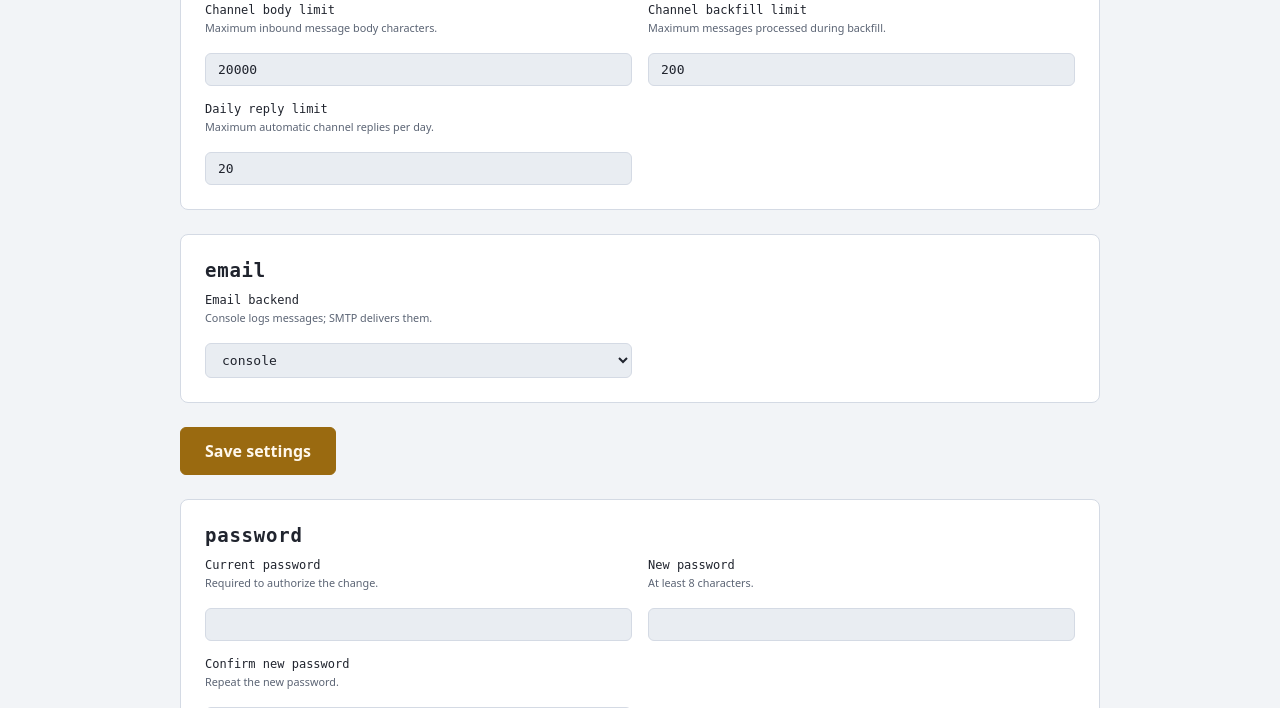
Scenario: smtp fields hidden for console backend and shown for smtp
The width and height of the screenshot is (1280, 708).
(page scrolled)
Expected: the field labelled "SMTP host" is not shown
Select "smtp" in the dropdown labelled "Email backend Console logs messages; SMTP delivers them." at (418, 360), box [205,343,632,378]
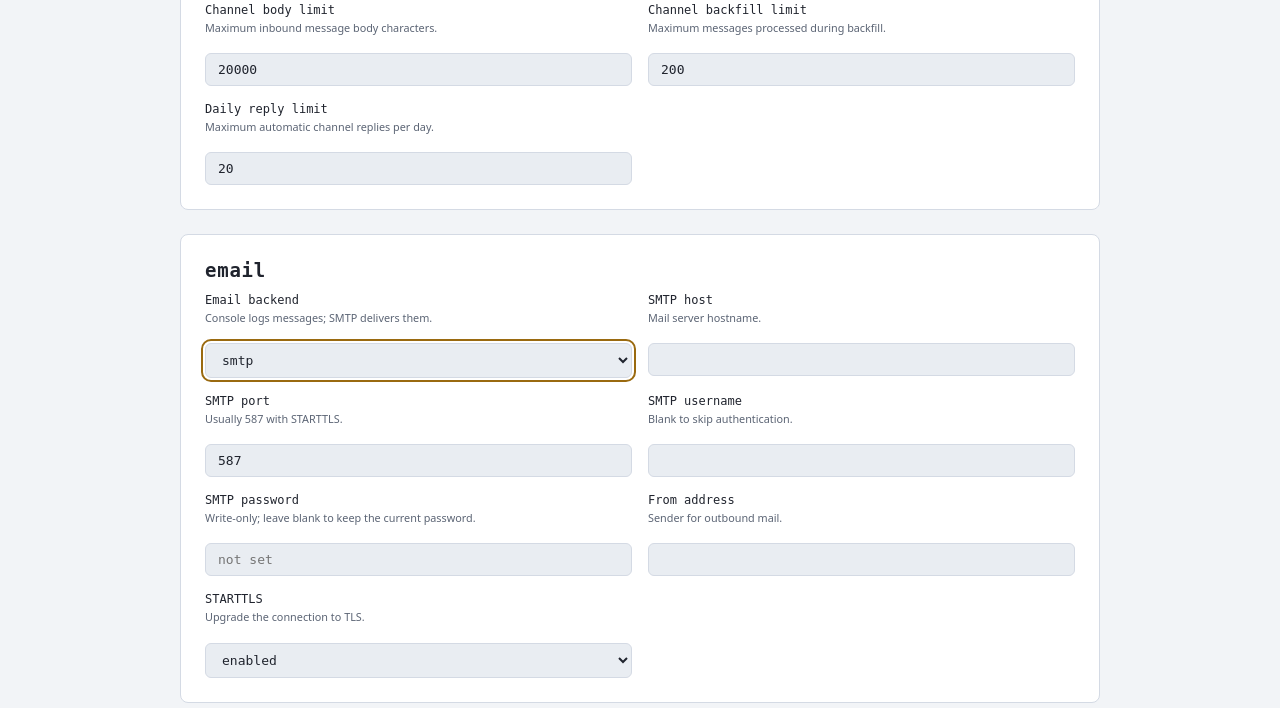
Now the field labelled "SMTP host" is shown, box [648,343,1075,376]
Now the password field labelled "SMTP password" is shown, box [205,543,632,576]
